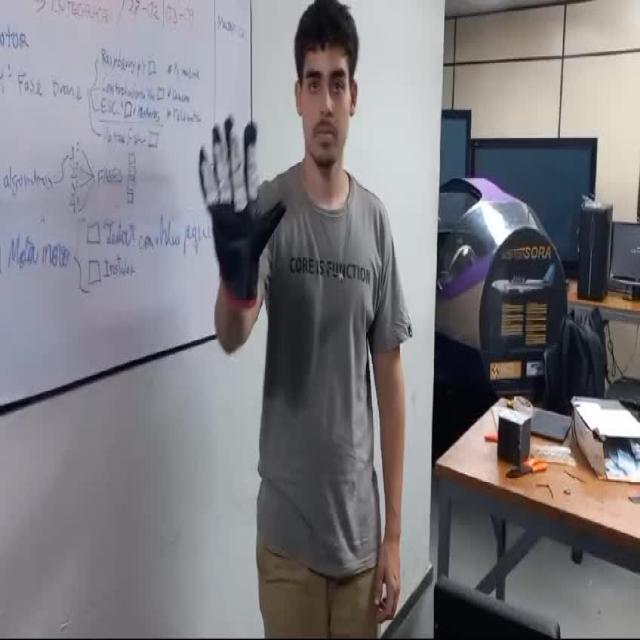Gloves: (196, 109, 288, 304)
